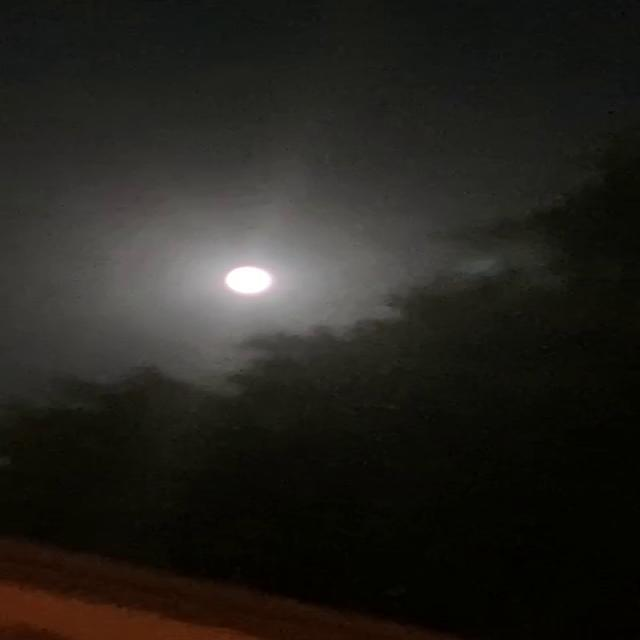moon: (226, 268, 310, 312)
